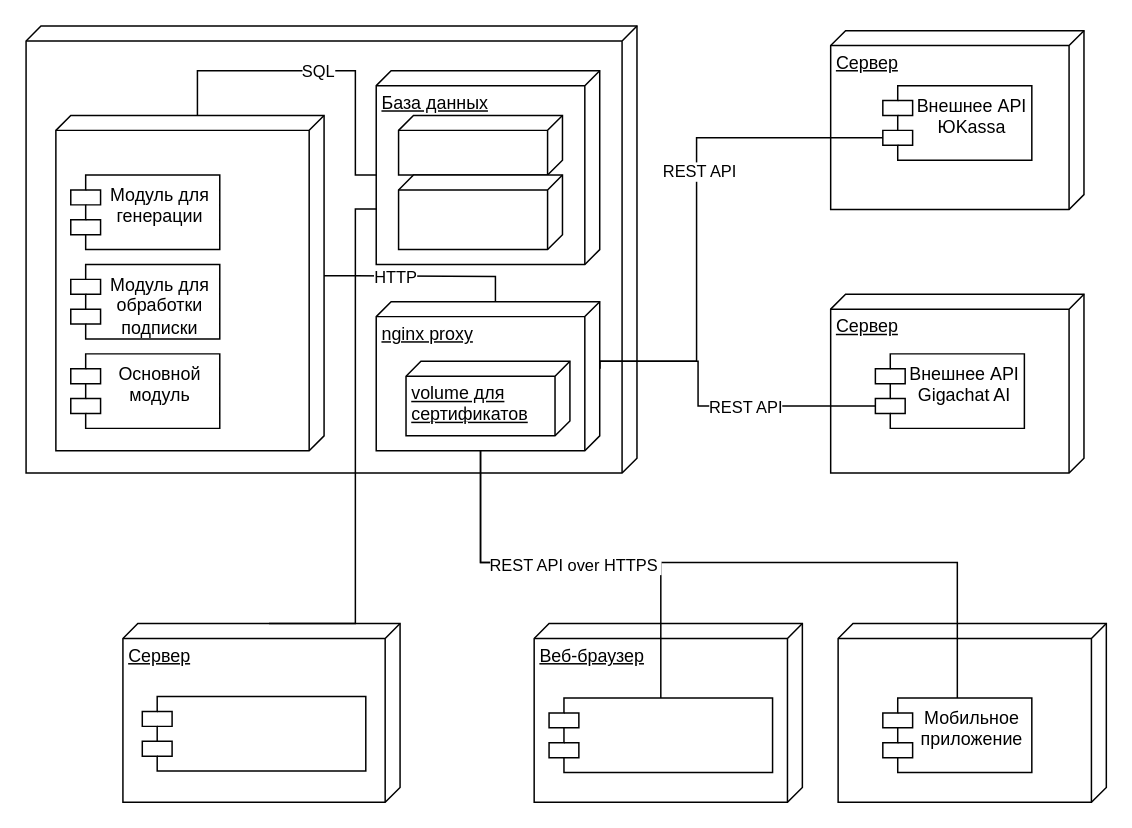
The diagram is 1132 pixels wide and 828 high, and some of its shapes have lost their labels. Here are the shapes that lost their labels. From the top down, the box of each, then its label:
(397, 114, 562, 175): Postgresql
(397, 174, 562, 250): volume для данных
(25, 25, 637, 473): VPS
(54, 114, 324, 451): Backend на Django
(837, 622, 1106, 802): Android устройство
(141, 695, 366, 771): Сервис для сохранения резервных копий
(548, 697, 773, 773): Панель администрирования
